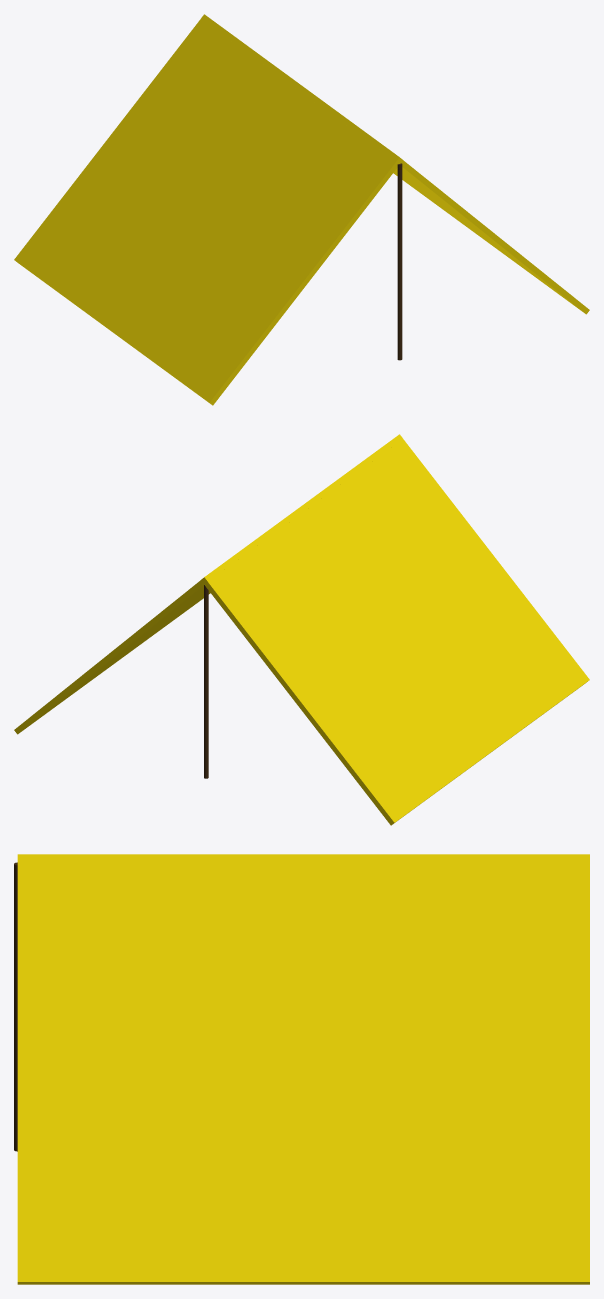
The model's file is tent.fbx.
3 renders of one model, top to bottom at view 1: azimuth 30°, elevation 25°; view 2: azimuth 150°, elevation 25°; view 3: azimuth 270°, elevation 25°, orthographic. The views are drawn at different scales.
Visible parts, largest first — view 1: Cube, Cylinder; view 2: Cube, Cylinder; view 3: Cube, Cylinder.
Boxes of the visible parts, x1,y1,x2,y2 form: Cube: (14,14,589,405); Cylinder: (397,163,402,360); Cube: (14,434,589,825); Cylinder: (204,585,208,778); Cube: (17,854,589,1284); Cylinder: (14,862,17,1151).
Size of the model in its own units: 825 by 420 by 738.
